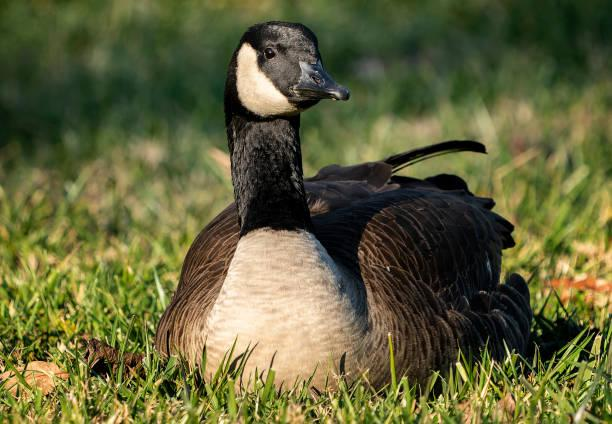Canadian-Goose: (152, 19, 532, 389)
